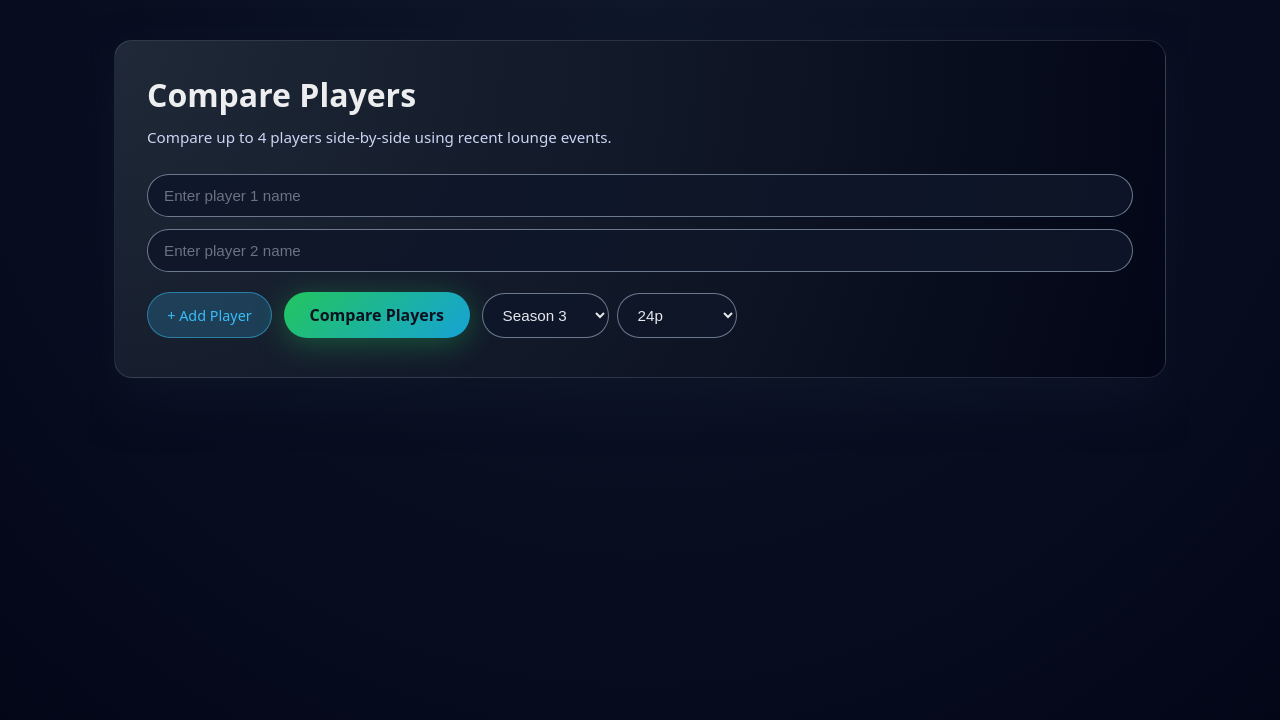
Test: PlayerComparison › shows N/A instead of NaN% for a missing win rate
Type "Amy" into the dropdown labelled "player 1 name" at (640, 196), box x1=147 y1=174 x2=1133 y2=217
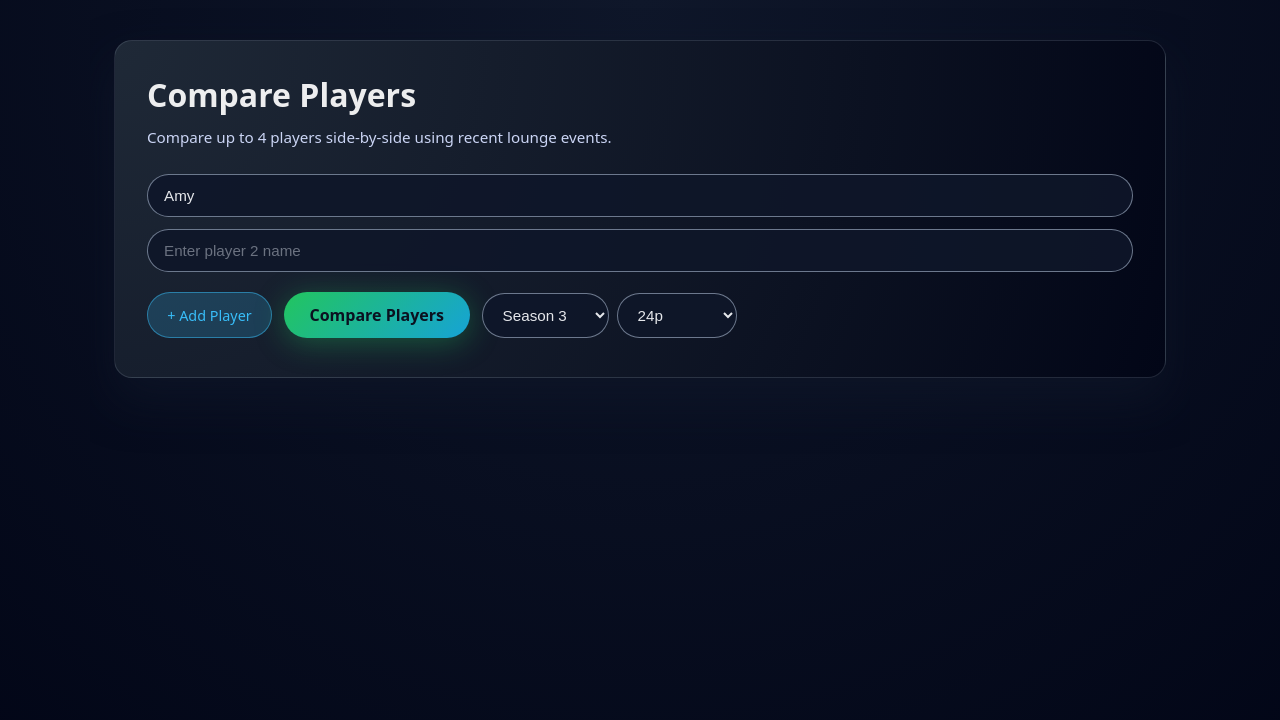
Type "Zed" into the dropdown labelled "player 2 name" at (640, 251), box x1=147 y1=229 x2=1133 y2=272
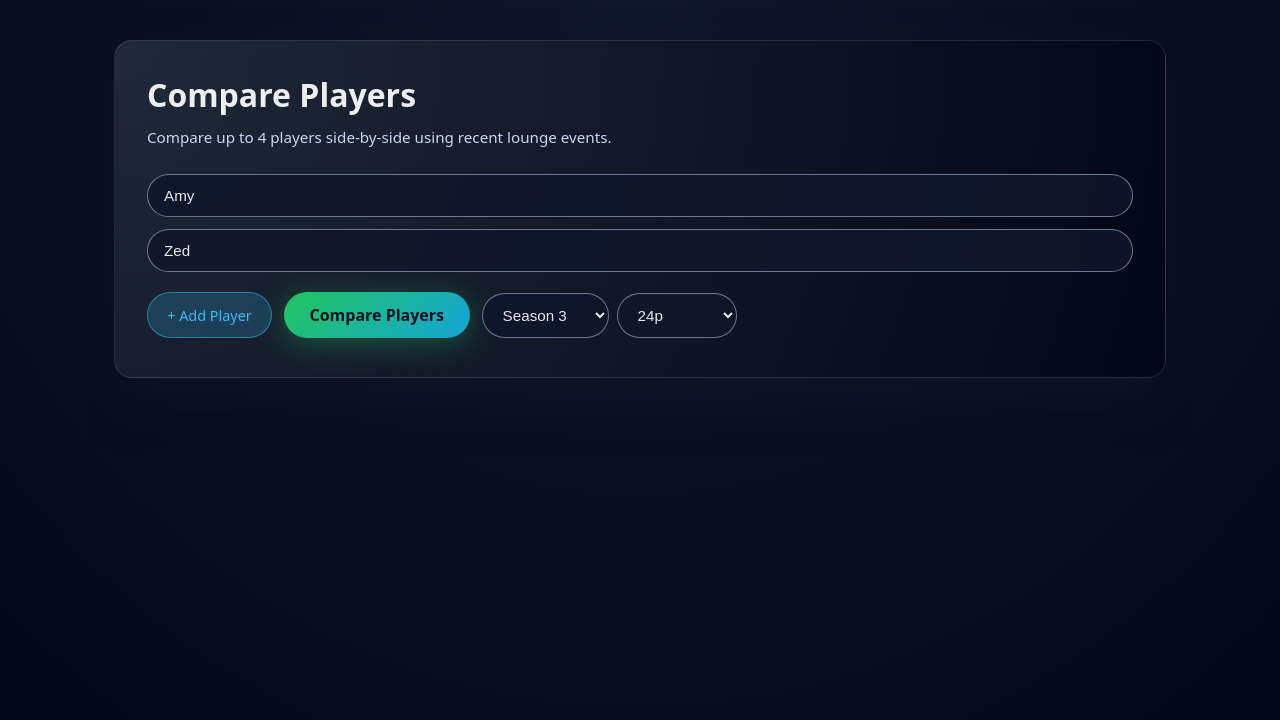
Click the button with aria-label "Compare selected players" at (377, 315), box x1=284 y1=292 x2=470 y2=338
(page scrolled)
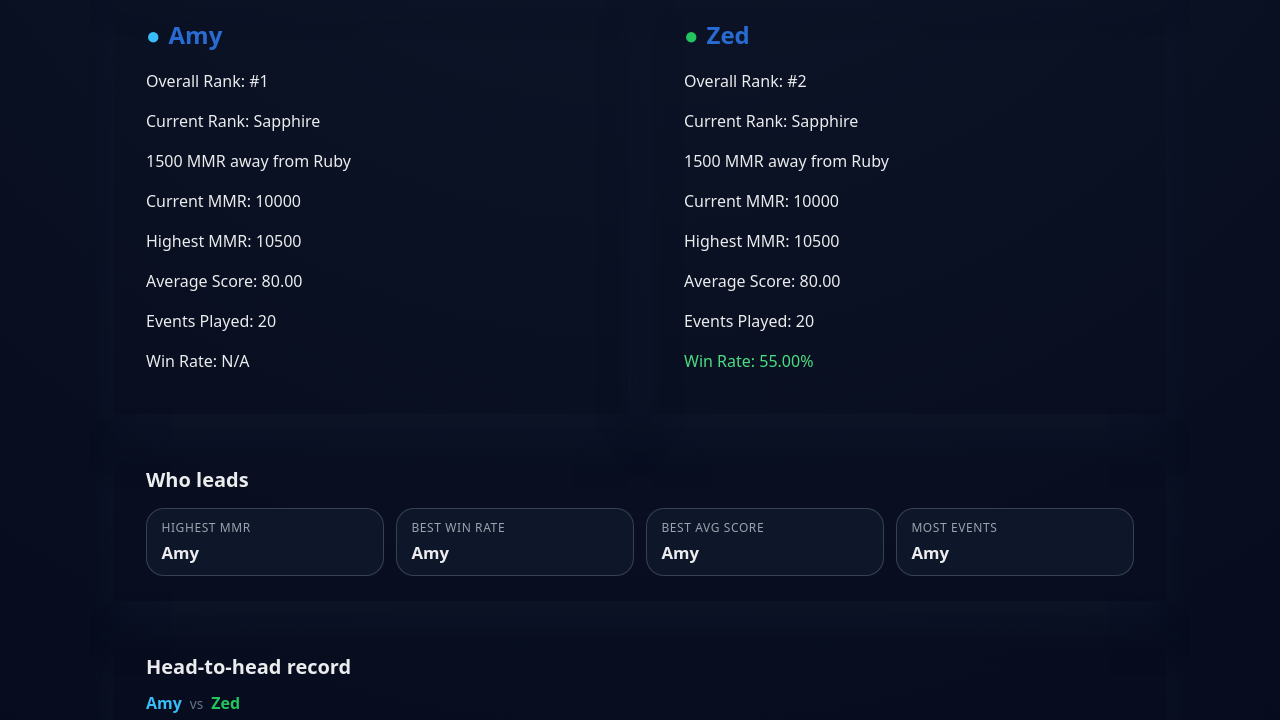
Now the text "Win Rate: N/A" is shown, box x1=146 y1=350 x2=250 y2=372
